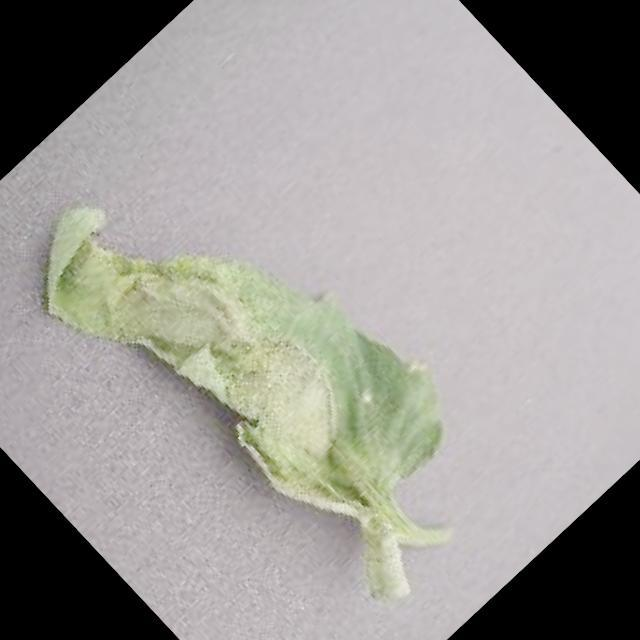Tomato late blight leaf: (2, 96, 480, 584)
